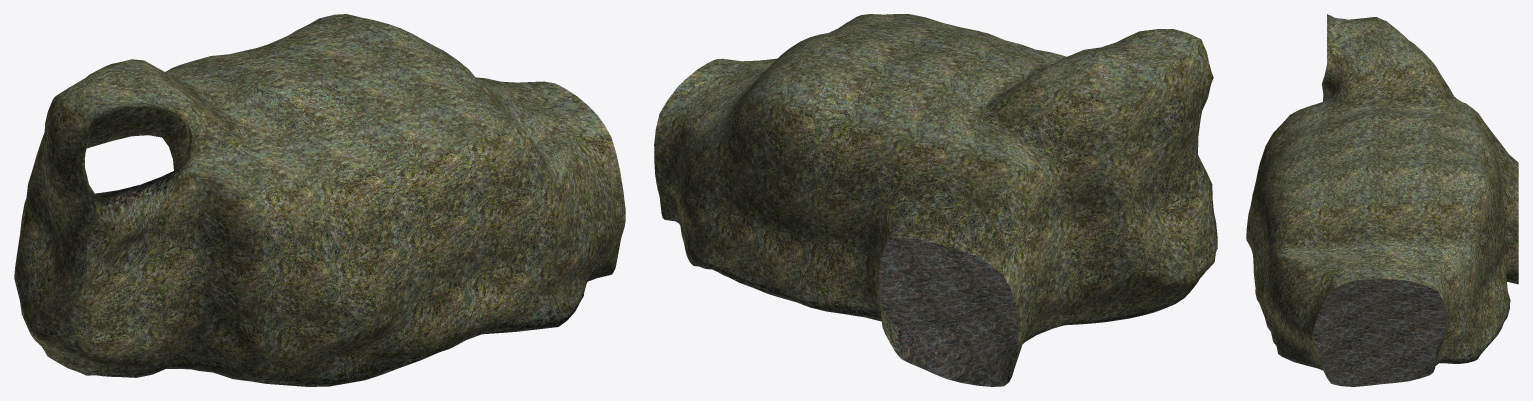
Rendered from thm_all_cave_s01_damprock_mirror_r9_mesh_r9.fbx.
3 renders of one model, left to right at view 1: azimuth 30°, elevation 25°; view 2: azimuth 150°, elevation 25°; view 3: azimuth 270°, elevation 25°, orthographic. The views are drawn at different scales.
Visible parts, largest first — view 1: mesh_node; view 2: mesh_node; view 3: mesh_node.
Boxes of the visible parts, x1,y1,x2,y2 form: mesh_node: (14, 14, 625, 386); mesh_node: (654, 14, 1217, 386); mesh_node: (1246, 14, 1518, 386).
Bounding box in the file's own units: 80.39 × 43.77 × 50.19.
